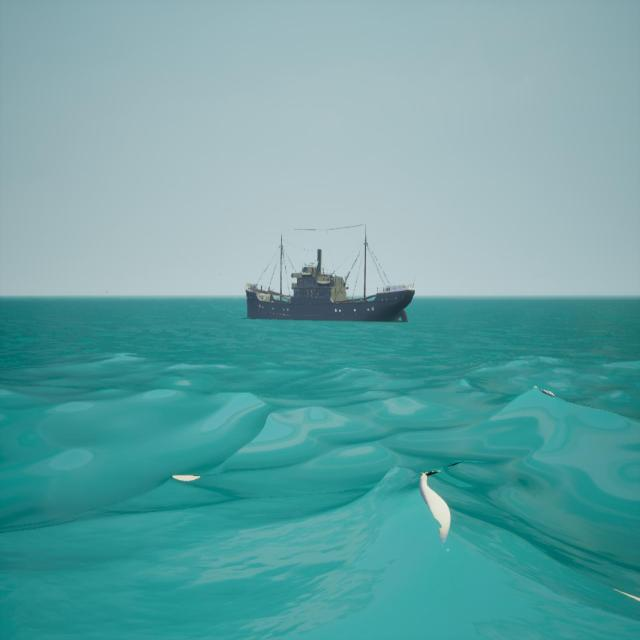fishing ship: (240, 204, 419, 339)
